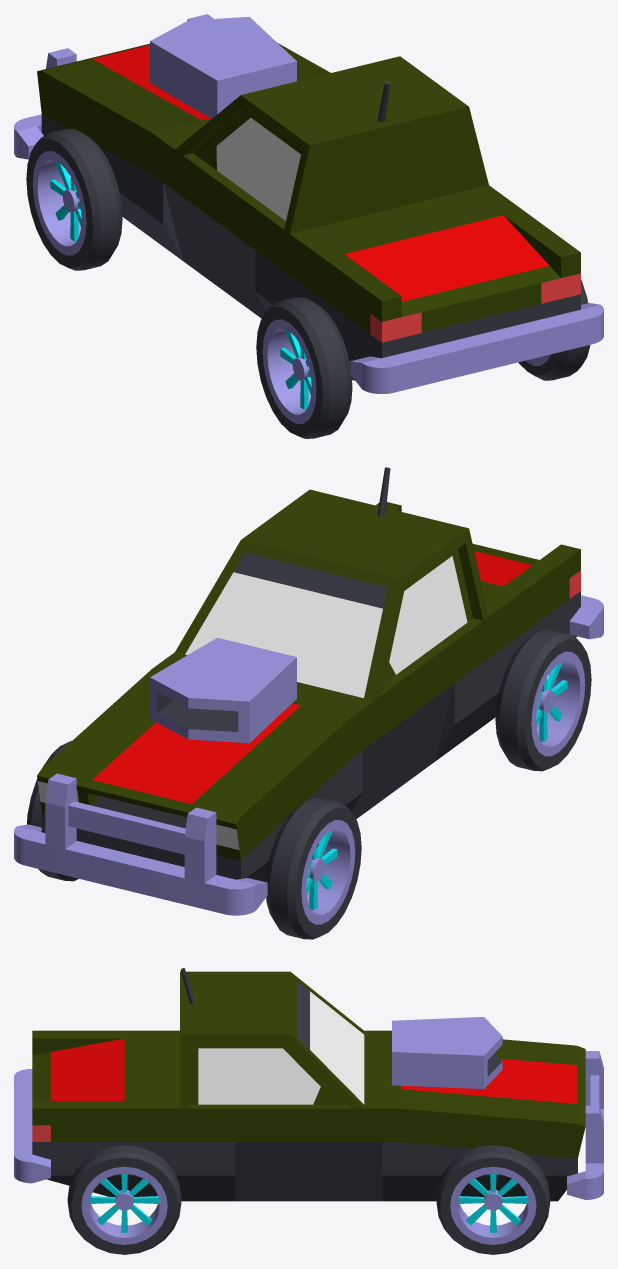
The model's file is obstacle_sportscar.glb.
3 views of the same model, one above another, from view 1: azimuth 30°, elevation 25°; view 2: azimuth 150°, elevation 25°; view 3: azimuth 270°, elevation 25° (orthographic). The views are drawn at different scales.
Parts seen in each view (by area): view 1: mergedBlocks(Clone); view 2: mergedBlocks(Clone); view 3: mergedBlocks(Clone).
Boxes of the visible parts, x1,y1,x2,y2 form: mergedBlocks(Clone): (14,14,603,438); mergedBlocks(Clone): (14,467,603,939); mergedBlocks(Clone): (14,968,603,1254).
Size of the model in its own units: 1.35 by 1.41 by 3.2.
